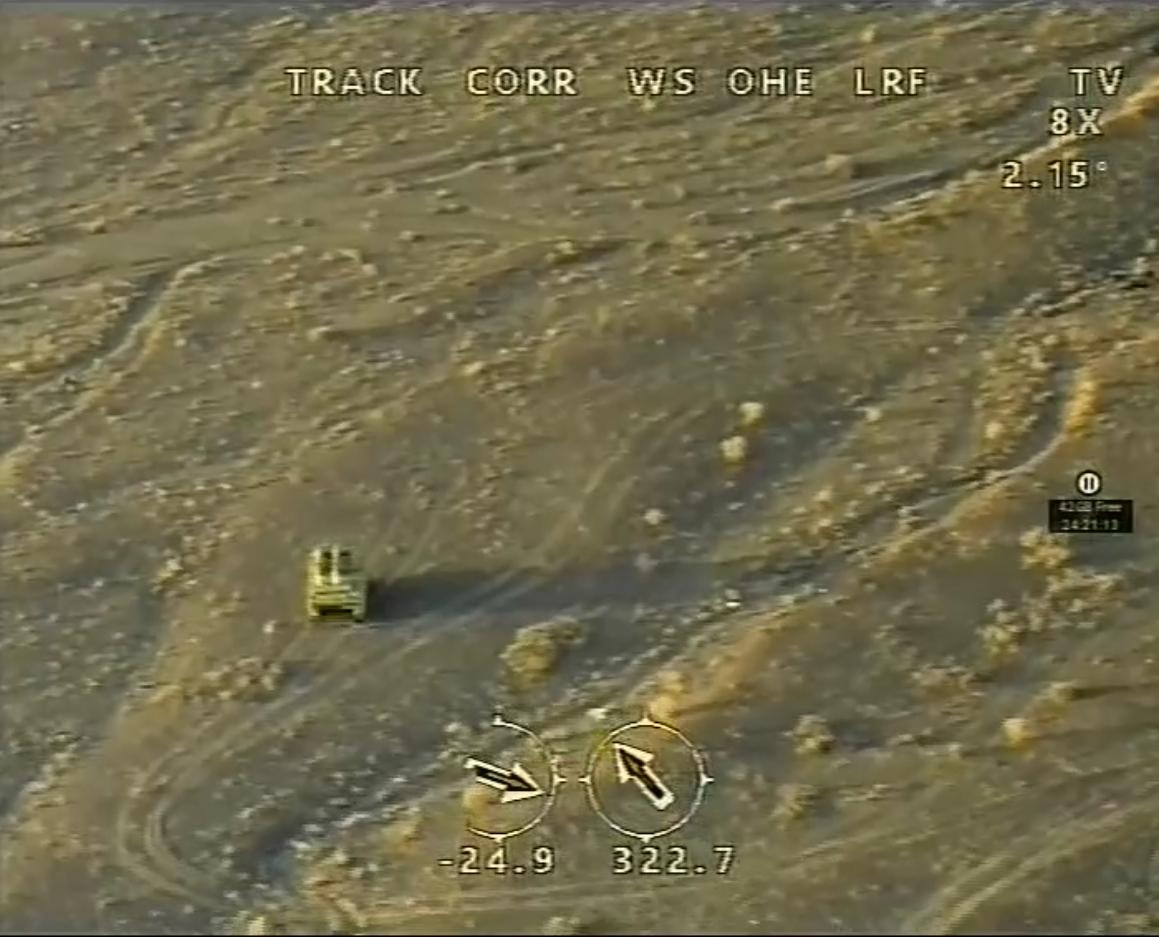armored_car: (297, 541, 374, 630)
